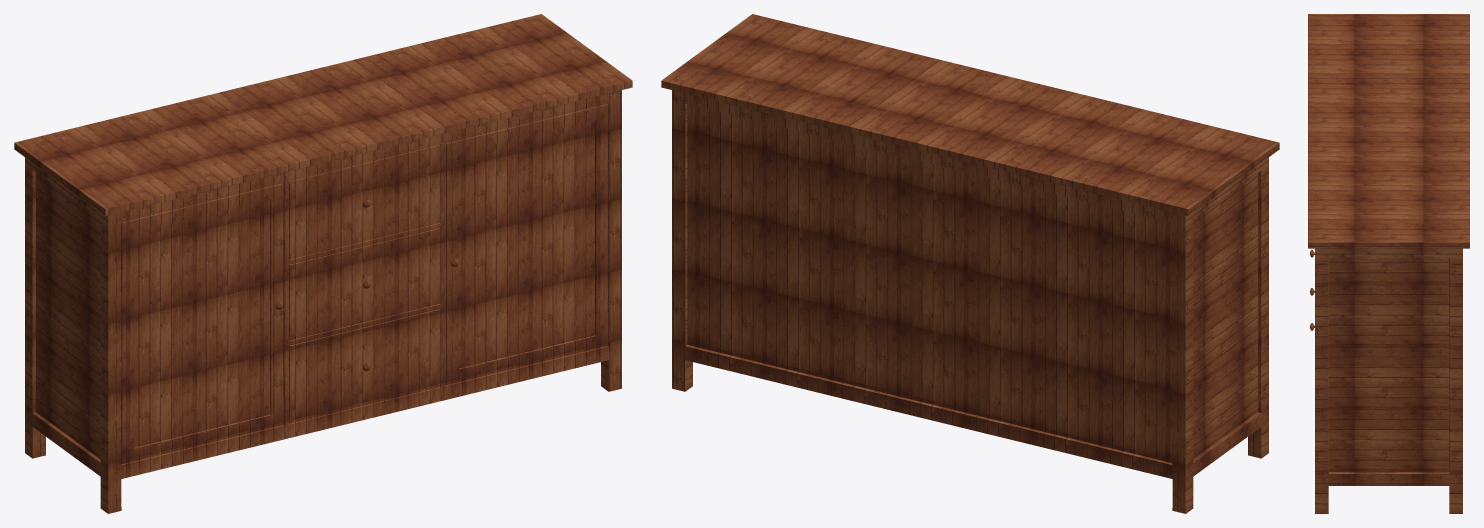
File: estante_cajones.obj
The picture shows the model from 3 angles, left to right: view 1: azimuth 30°, elevation 25°; view 2: azimuth 150°, elevation 25°; view 3: azimuth 270°, elevation 25°; orthographic projection. The views are drawn at different scales.
Parts seen in each view (by area): view 1: estante_cajones; view 2: estante_cajones; view 3: estante_cajones.
Part boxes in pixels (x1,y1,x2,y2): estante_cajones: (14, 14, 632, 513); estante_cajones: (661, 14, 1279, 513); estante_cajones: (1308, 14, 1469, 513).
Size of the model in its own units: 61.81 by 34.65 by 18.5.
Materials: 1 (1 with a texture image).
